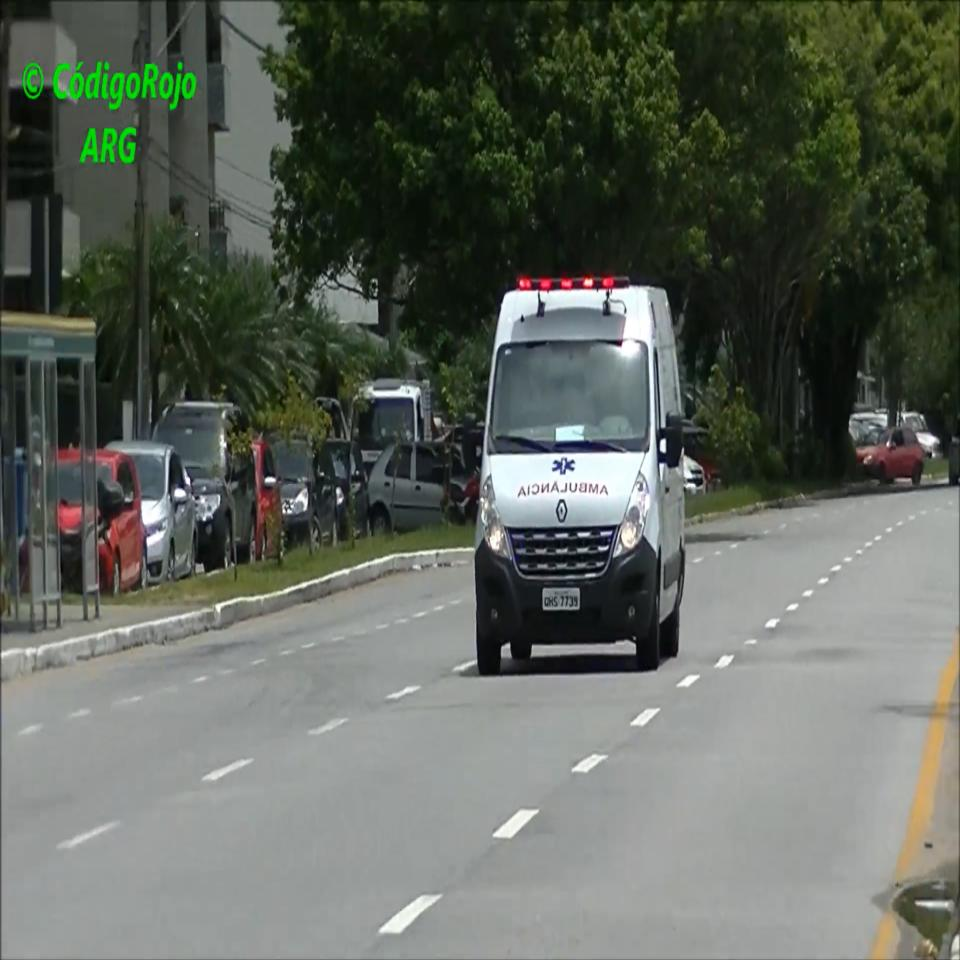bombeiro: (462, 267, 690, 679)
